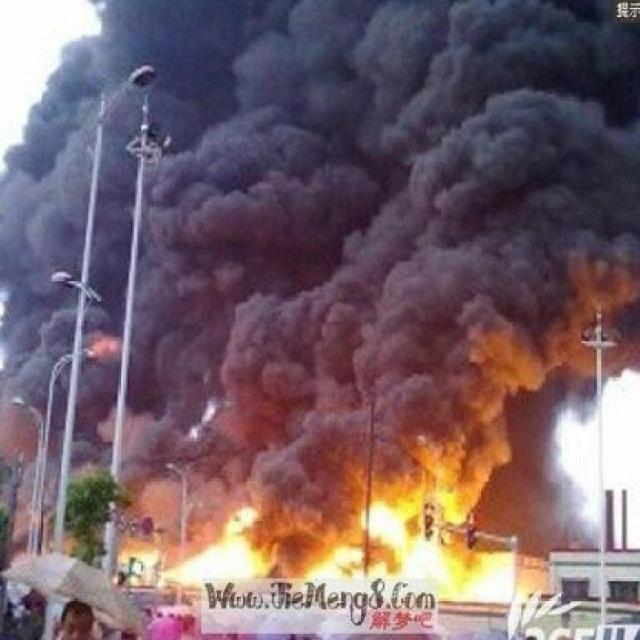Fire: (170, 490, 529, 610)
Smoke: (4, 7, 630, 490)
